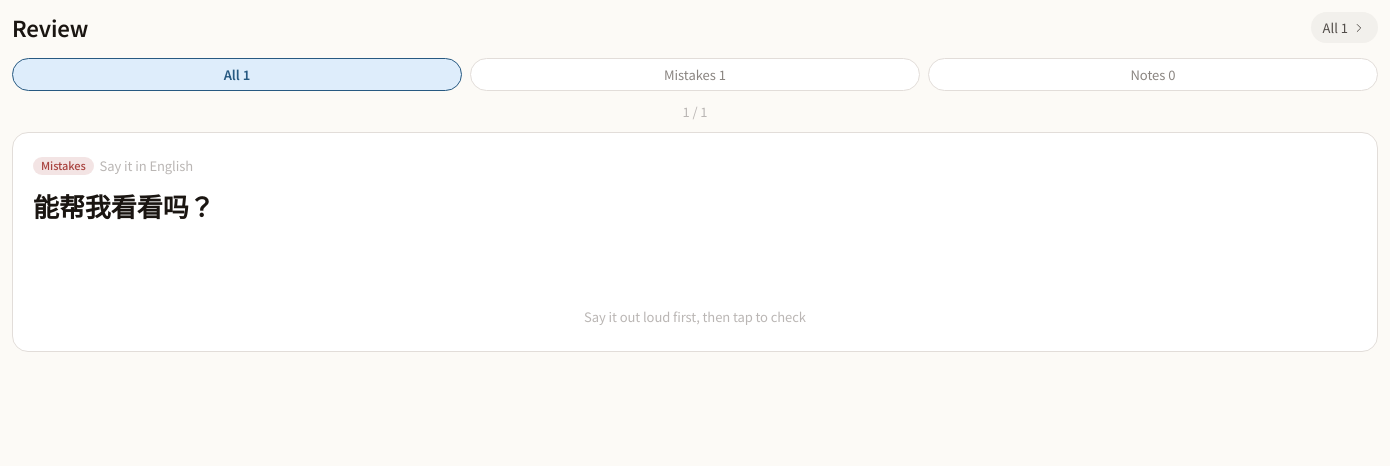
Test: ReviewPage › reveals answer on card tap without showing the wrong version
Click the text "能帮我看看吗？".
click(124, 205)  # box [33,187,214,224]
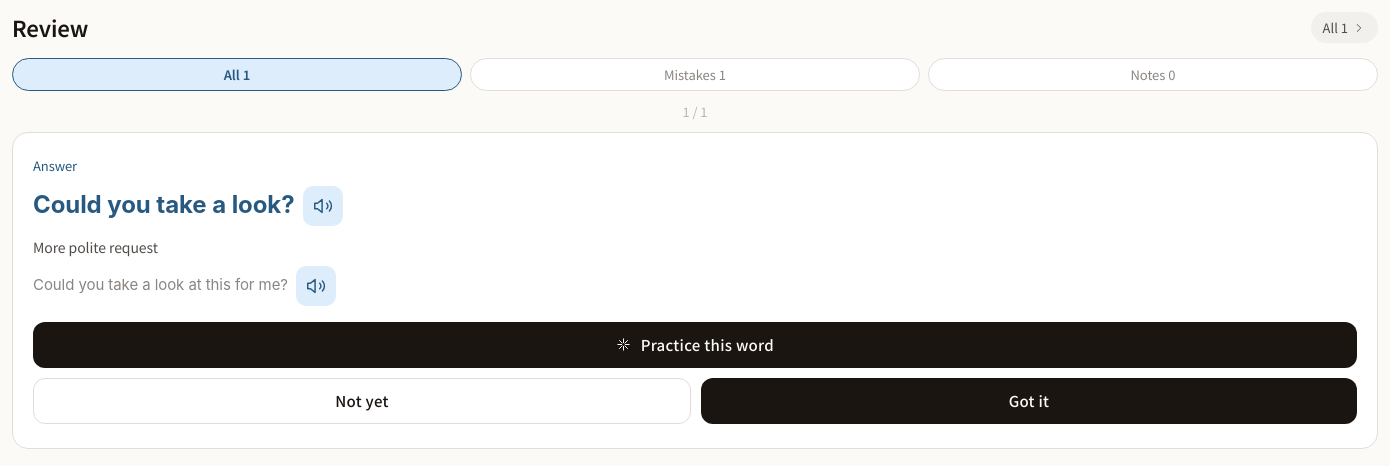
Check: the text "Could you take a look?" is shown, box [33,186,343,226]
